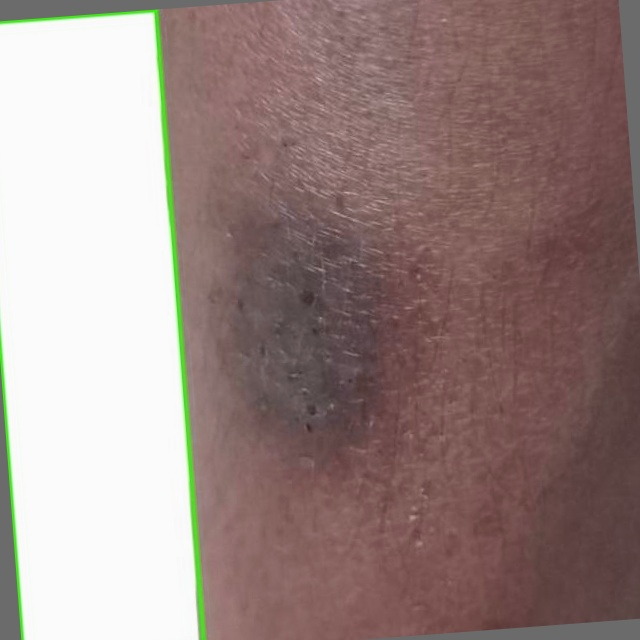Eczema: (0, 10, 203, 639)
